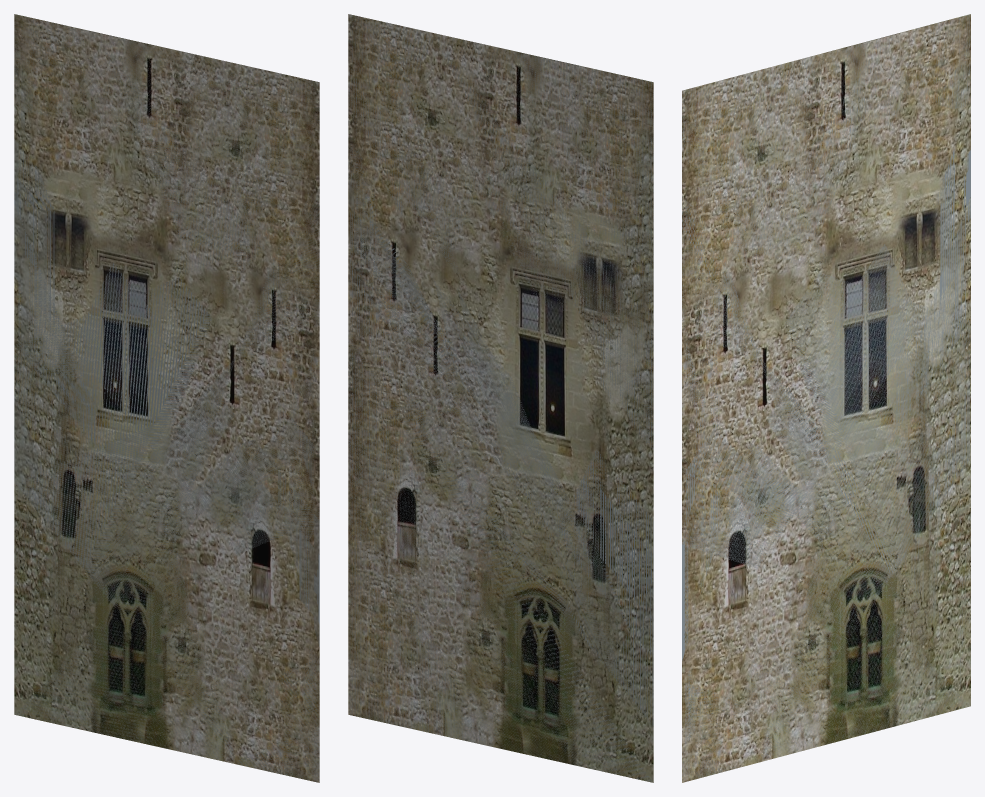
Rendered from 西庸城堡717.dae.
The picture shows the model from 3 angles, left to right: view 1: azimuth 30°, elevation 25°; view 2: azimuth 210°, elevation 25°; view 3: azimuth 270°, elevation 25°; orthographic projection.
Parts seen in each view (by area): view 1: SketchUp; view 2: SketchUp; view 3: SketchUp.
Part boxes in pixels (box(x1,y1,x2,y2)): SketchUp: box(14, 14, 319, 782); SketchUp: box(348, 14, 653, 782); SketchUp: box(682, 14, 970, 782).
Size of the model in its own units: 176 by 281 by 743.
